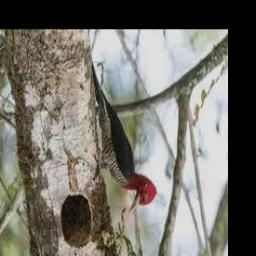Woodpecker: (91, 63, 156, 217)
